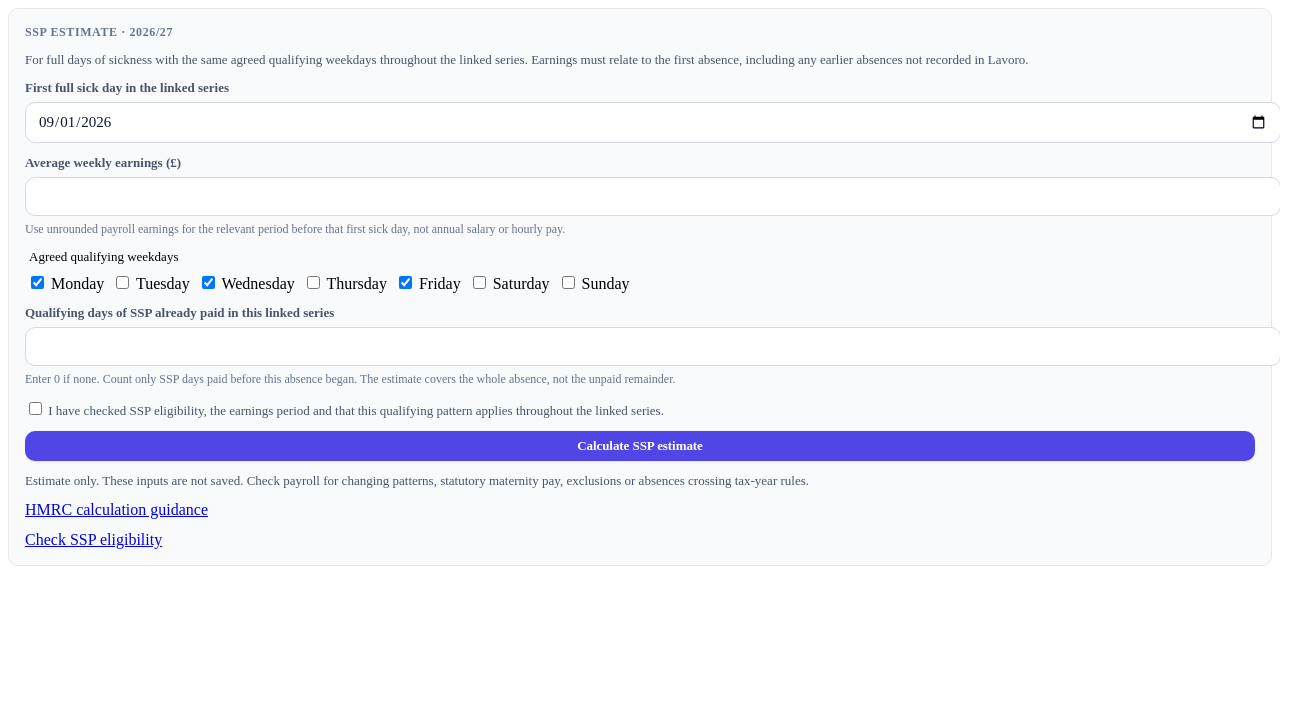
Test: uses earliest linked absence for the earnings date and rejects a later date
Type "2026-10-05" into the date field labelled "First full sick day in the linked series" at (652, 122), box [25,102,1280,143]
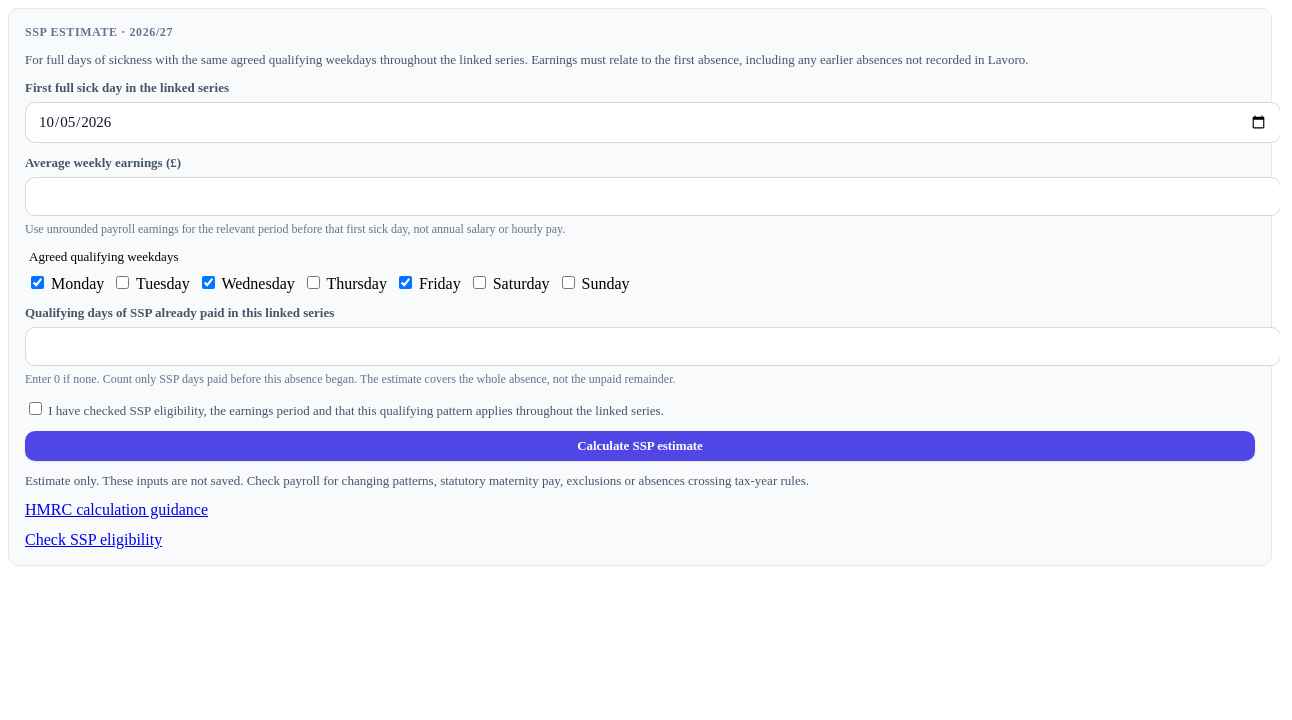
Type "100" into the number field labelled "Average weekly earnings (£)" at (652, 196), box [25,177,1280,216]
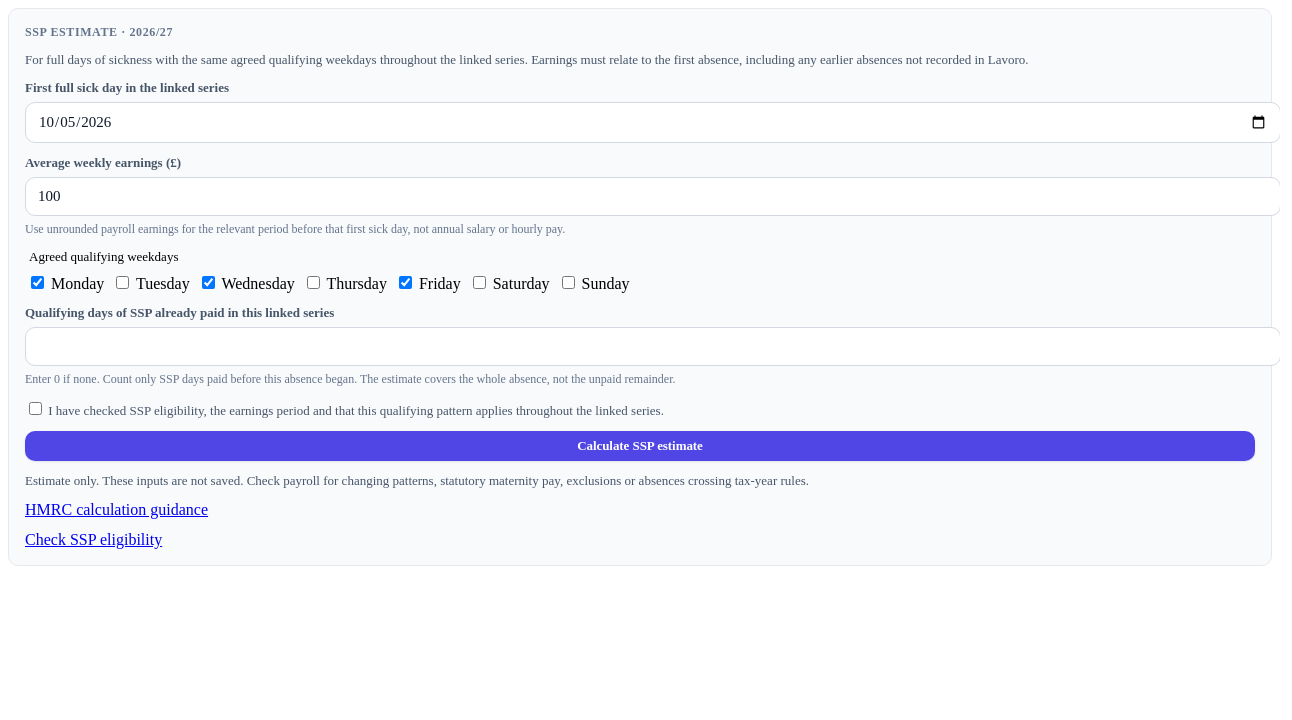
Type "0" into the number field labelled "Qualifying days of SSP already paid in this linked series" at (652, 346), box [25,327,1280,366]
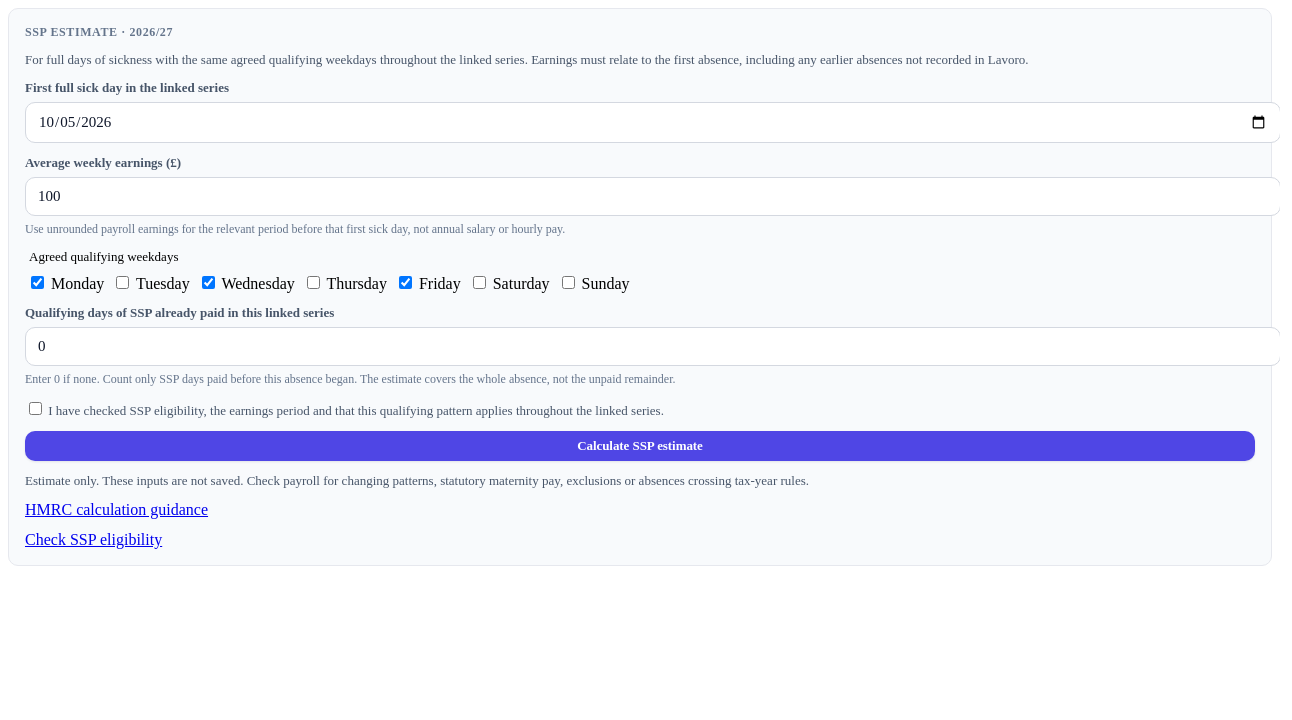
Click the checkbox labelled "I have checked SSP eligibility" at (36, 408), box [29,402,42,415]
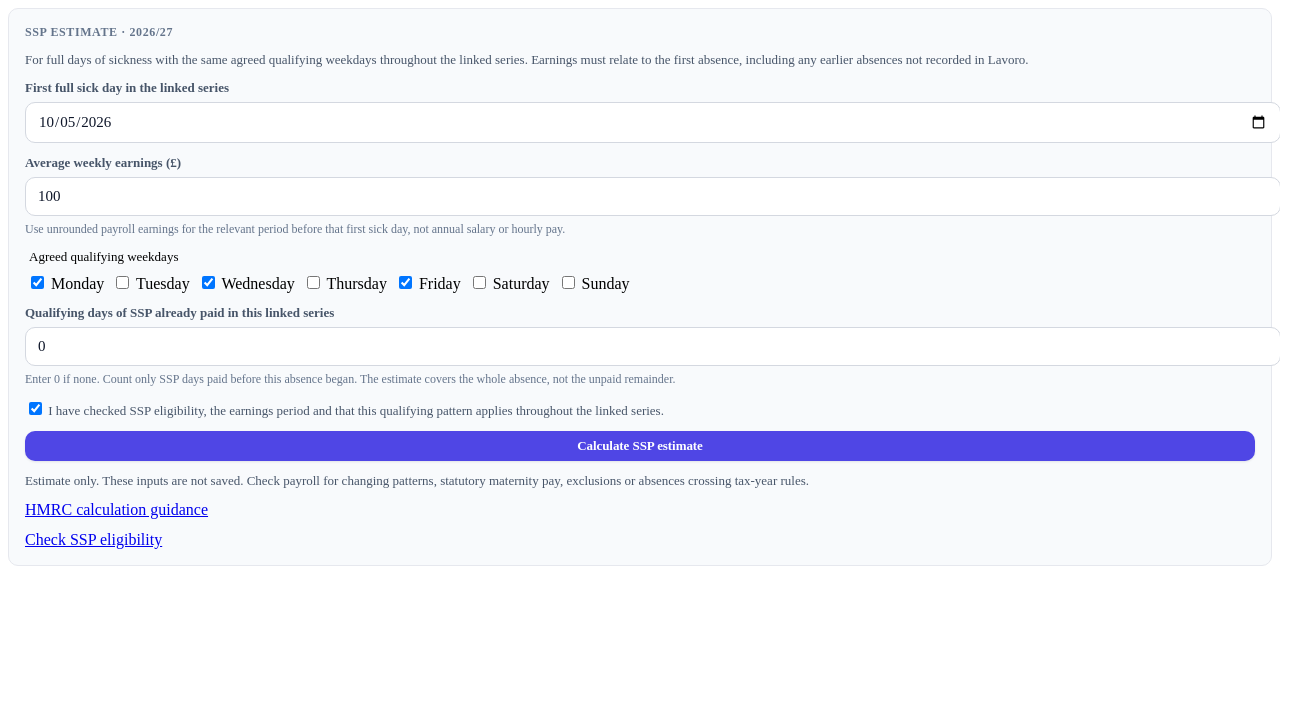
Click the button "Calculate SSP estimate" at (640, 446), box [25,431,1255,461]
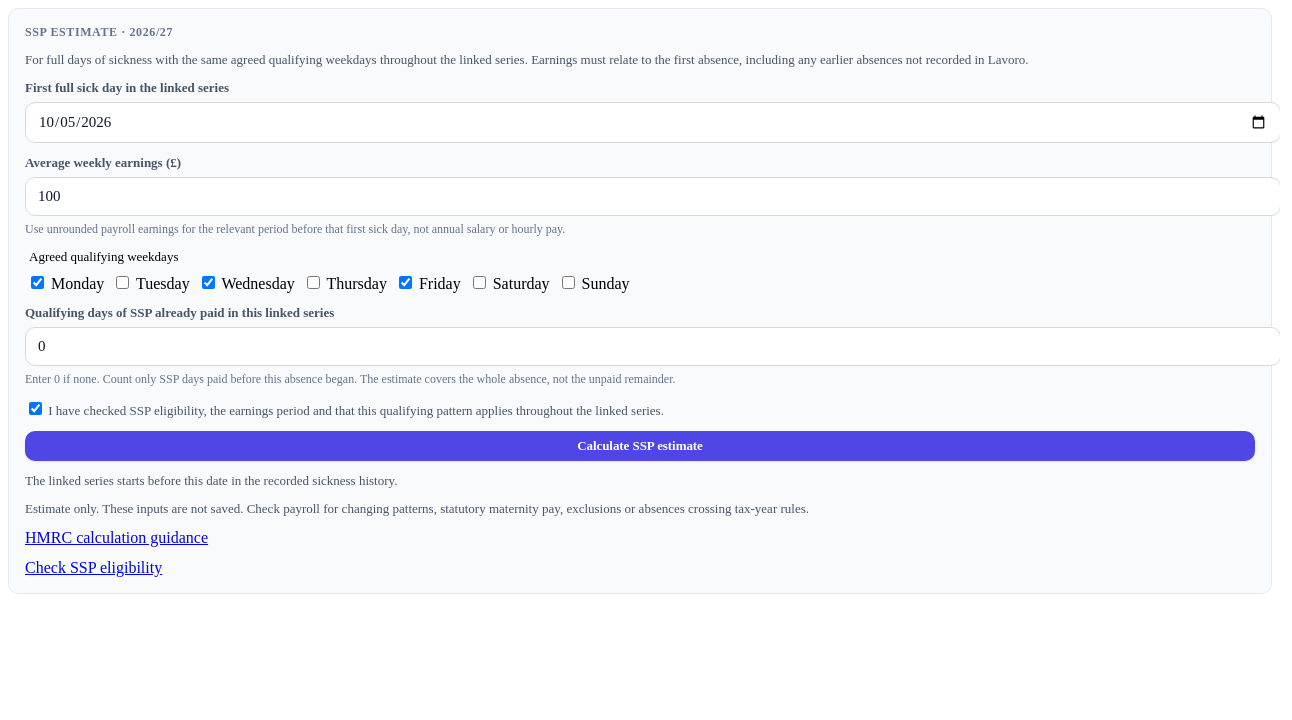
Expected: the message shows "recorded sickness history", [25,473,397,488]
